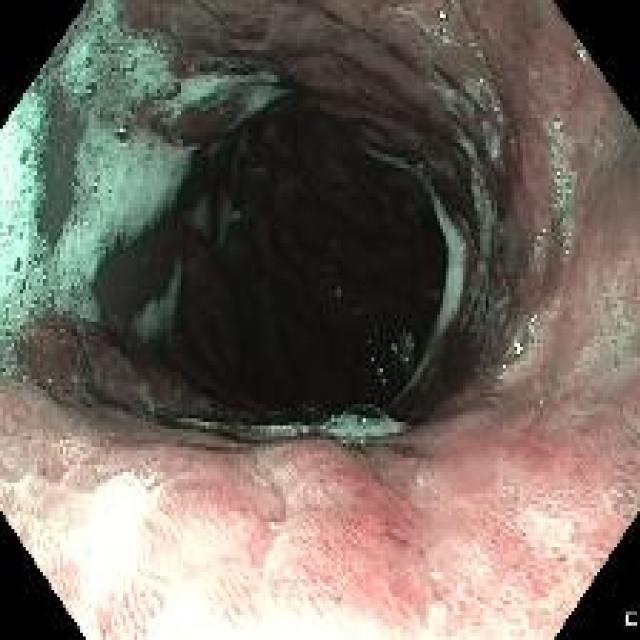bubbles: (32, 3, 182, 142), (2, 121, 102, 315), (102, 137, 190, 246), (183, 64, 289, 140), (176, 398, 322, 445), (429, 192, 468, 338), (130, 258, 193, 347), (542, 113, 575, 258), (359, 141, 439, 194), (322, 401, 398, 441), (251, 163, 270, 182), (351, 303, 367, 318), (330, 284, 343, 302)
contrast: (149, 109, 454, 445)
saturation: (102, 519, 509, 638), (57, 471, 155, 616)
specularity: (364, 319, 418, 387), (467, 33, 486, 66), (567, 43, 591, 66), (434, 11, 452, 27), (528, 312, 537, 330), (513, 338, 522, 354), (430, 569, 439, 579), (553, 120, 560, 130), (359, 416, 367, 424), (533, 338, 538, 348), (416, 477, 423, 484), (319, 422, 325, 430), (566, 186, 570, 195), (502, 365, 507, 372), (556, 170, 560, 177), (555, 188, 559, 195)
